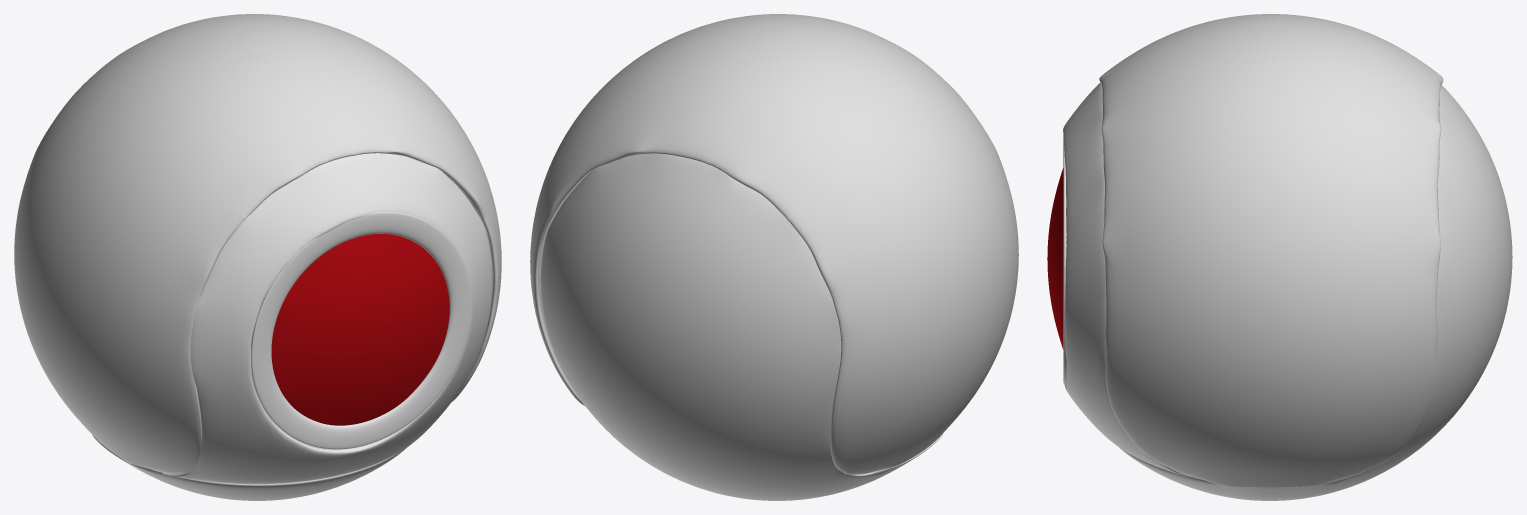
Rendered from Nave Espacial Vegeta Super Saiyan.fbx.
3 views of the same model, side by side, from view 1: azimuth 30°, elevation 25°; view 2: azimuth 150°, elevation 25°; view 3: azimuth 270°, elevation 25° (orthographic).
Parts seen in each view (by area): view 1: Tampa, Esferap004; view 2: Tampa; view 3: Tampa, Esferap004.
Part boxes in pixels (x1,y1,x2,y2): Tampa: (14, 14, 501, 500); Esferap004: (160, 153, 492, 484); Tampa: (530, 14, 1018, 500); Tampa: (1099, 14, 1512, 500); Esferap004: (1047, 82, 1193, 477).
Size of the model in its own units: 97.3 by 98.32 by 93.21.
